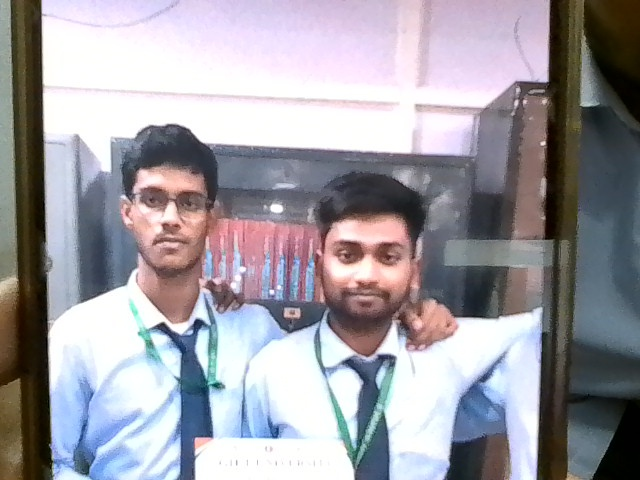real: (310, 176, 422, 335), (116, 131, 222, 282)
